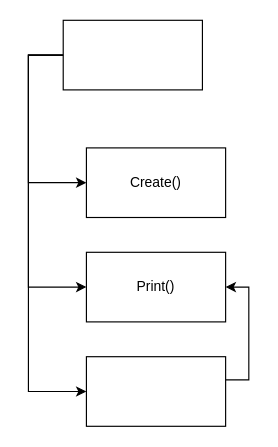
The diagram is 278 pixels wide and 447 high, and some of its shapes have lost their labels. Here are the shapes that lost their labels. From the top down, the centre of each, then its label:
At [132,54]: "main()".
At [155,391]: "SumMinOddRows()".
